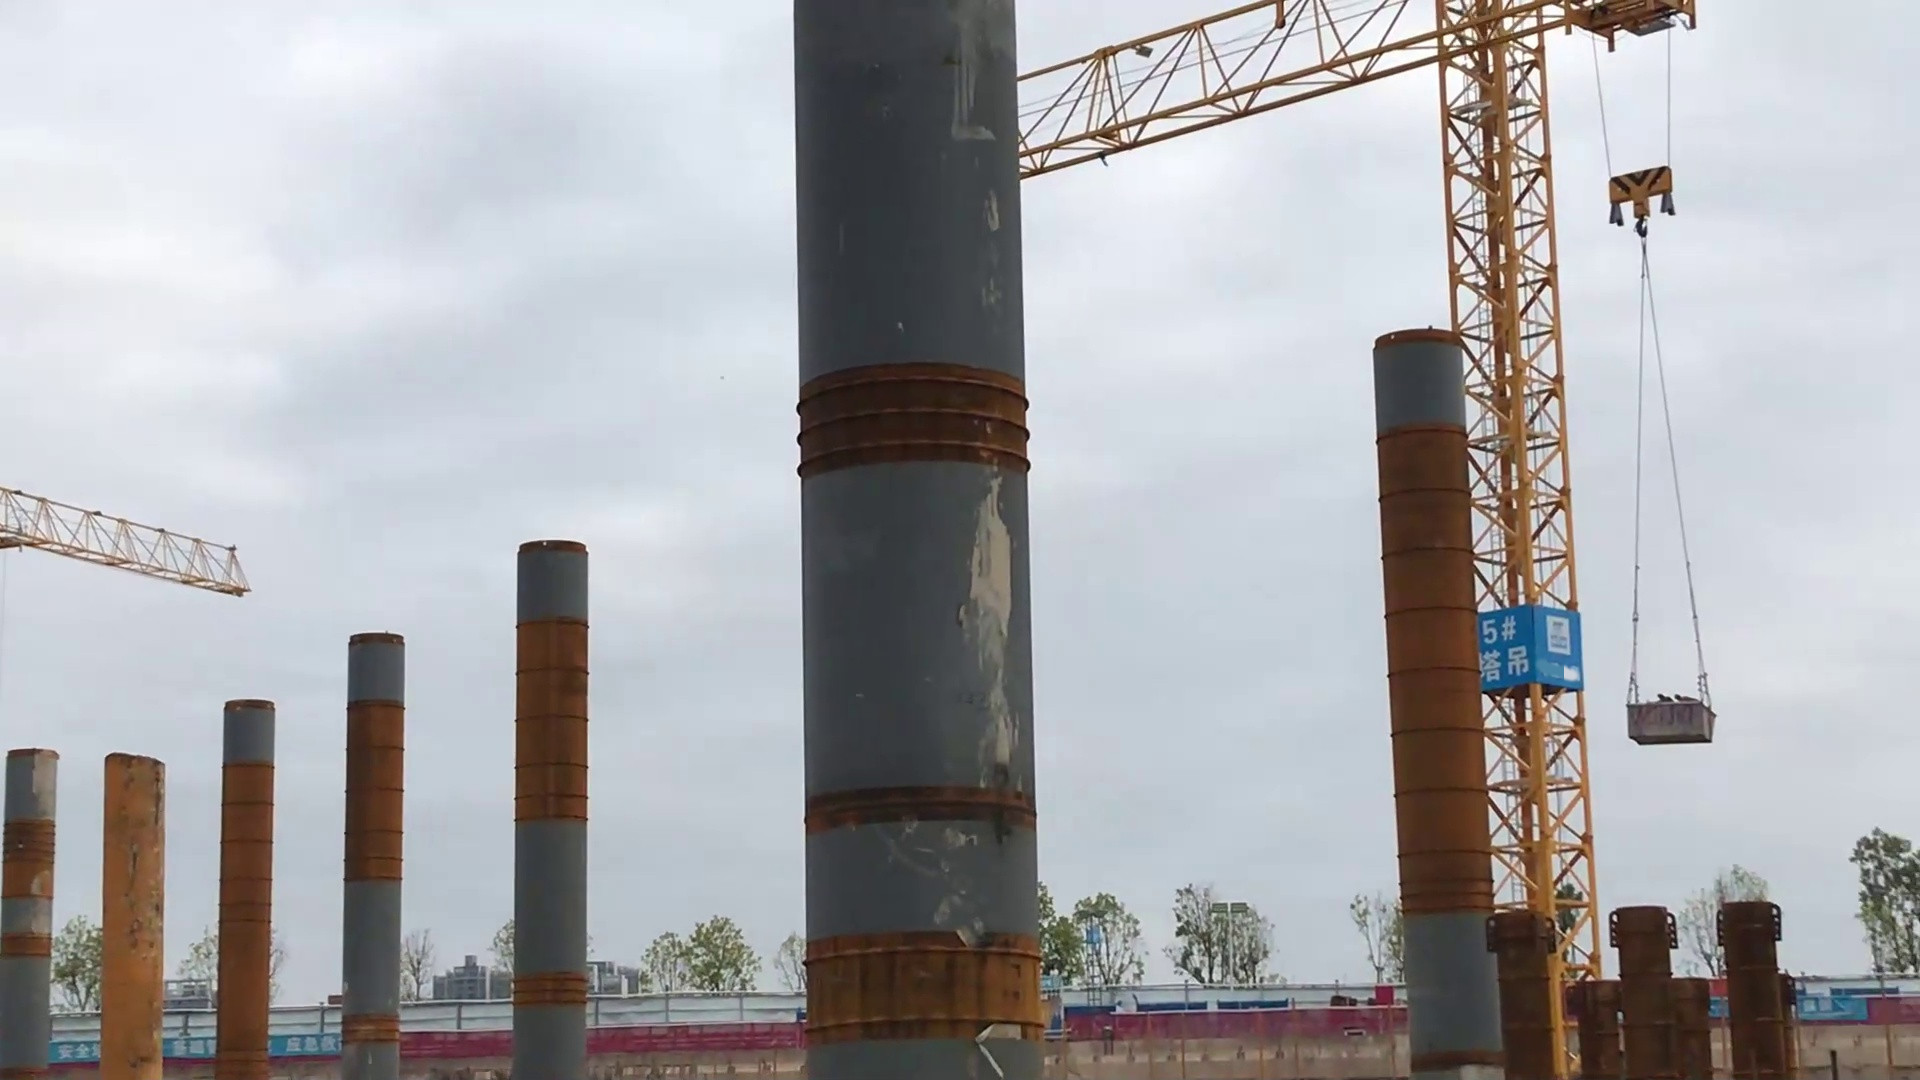fence: (1069, 1000, 1412, 1047), (585, 1021, 803, 1058), (404, 1021, 517, 1067)
hook: (1600, 157, 1681, 240)
hopper: (1619, 690, 1720, 756)
